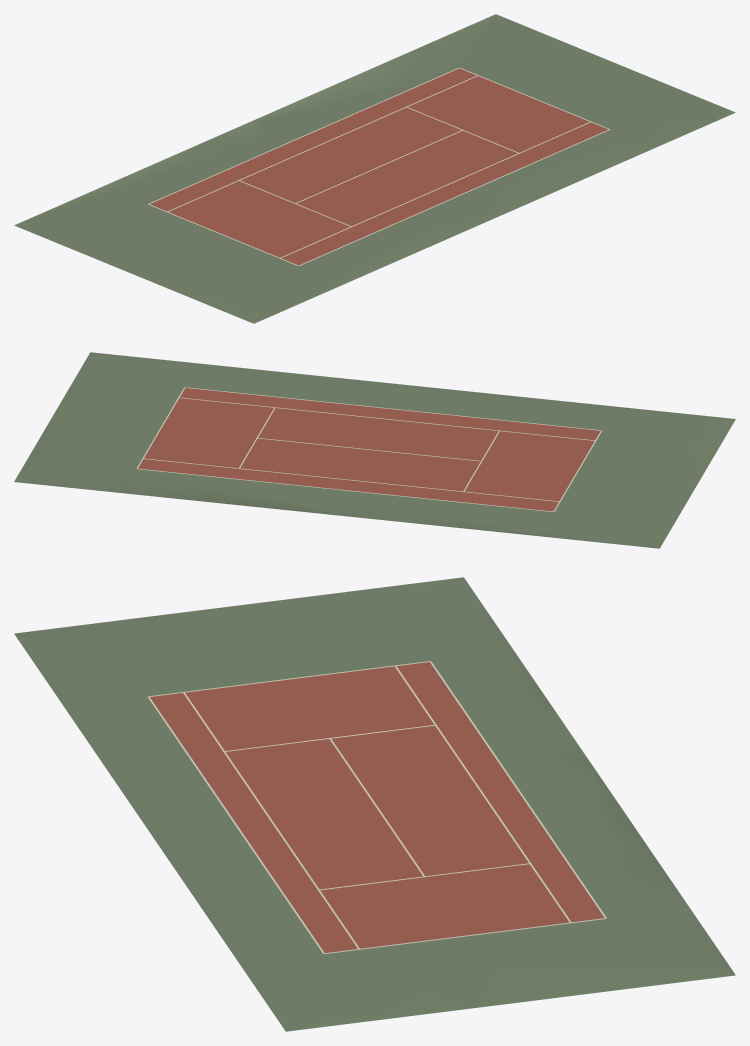
The model's file is north-b6-293949920.glb.
3 views of the same model, one above another, from view 1: azimuth 30°, elevation 25°; view 2: azimuth 150°, elevation 25°; view 3: azimuth 270°, elevation 25° (orthographic). The views are drawn at different scales.
Parts seen in each view (by area): view 1: campus-exterior court-293949920 courtGreen both, campus-exterior court-293949920 courtRed both, campus-exterior court-293949920 paint near; view 2: campus-exterior court-293949920 courtGreen both, campus-exterior court-293949920 courtRed both, campus-exterior court-293949920 paint near; view 3: campus-exterior court-293949920 courtGreen both, campus-exterior court-293949920 courtRed both, campus-exterior court-293949920 paint near.
Part boxes in pixels (bbox=[...]): campus-exterior court-293949920 courtGreen both: bbox=[14, 14, 735, 323]; campus-exterior court-293949920 courtRed both: bbox=[150, 68, 608, 265]; campus-exterior court-293949920 paint near: bbox=[148, 67, 609, 265]; campus-exterior court-293949920 courtGreen both: bbox=[14, 352, 735, 548]; campus-exterior court-293949920 courtRed both: bbox=[138, 388, 600, 511]; campus-exterior court-293949920 paint near: bbox=[136, 387, 601, 511]; campus-exterior court-293949920 courtGreen both: bbox=[14, 577, 735, 1031]; campus-exterior court-293949920 courtRed both: bbox=[150, 662, 604, 953]; campus-exterior court-293949920 paint near: bbox=[148, 661, 606, 953].
Bounding box in the file's own units: 39.8 × 0.0891 × 26.85.
